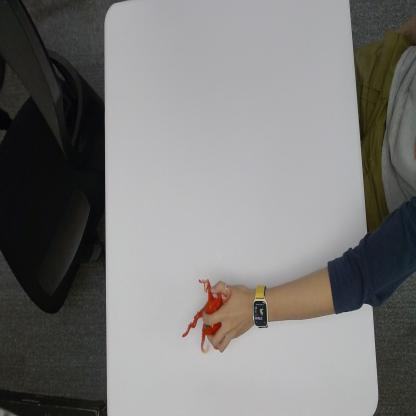Hand: (201, 280, 251, 354)
Octopus: (181, 275, 231, 355)
